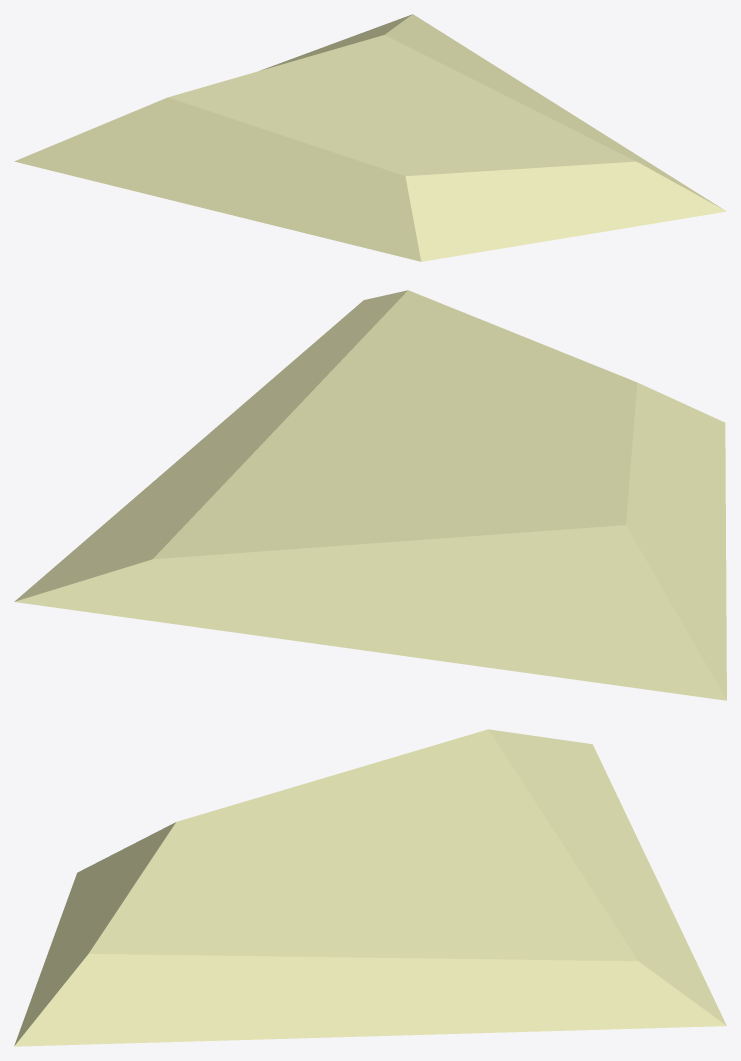
Rendered from Rock_Mesa_Small_7.fbx.
3 renders of one model, top to bottom at view 1: azimuth 30°, elevation 25°; view 2: azimuth 150°, elevation 25°; view 3: azimuth 270°, elevation 25°, orthographic. The views are drawn at different scales.
Parts seen in each view (by area): view 1: Rock; view 2: Rock; view 3: Rock.
Part boxes in pixels (x1,y1,x2,y2): Rock: (14,14,726,261); Rock: (14,290,726,700); Rock: (14,729,726,1046).
Size of the model in its own units: 24.55 by 3.3 by 24.62.
